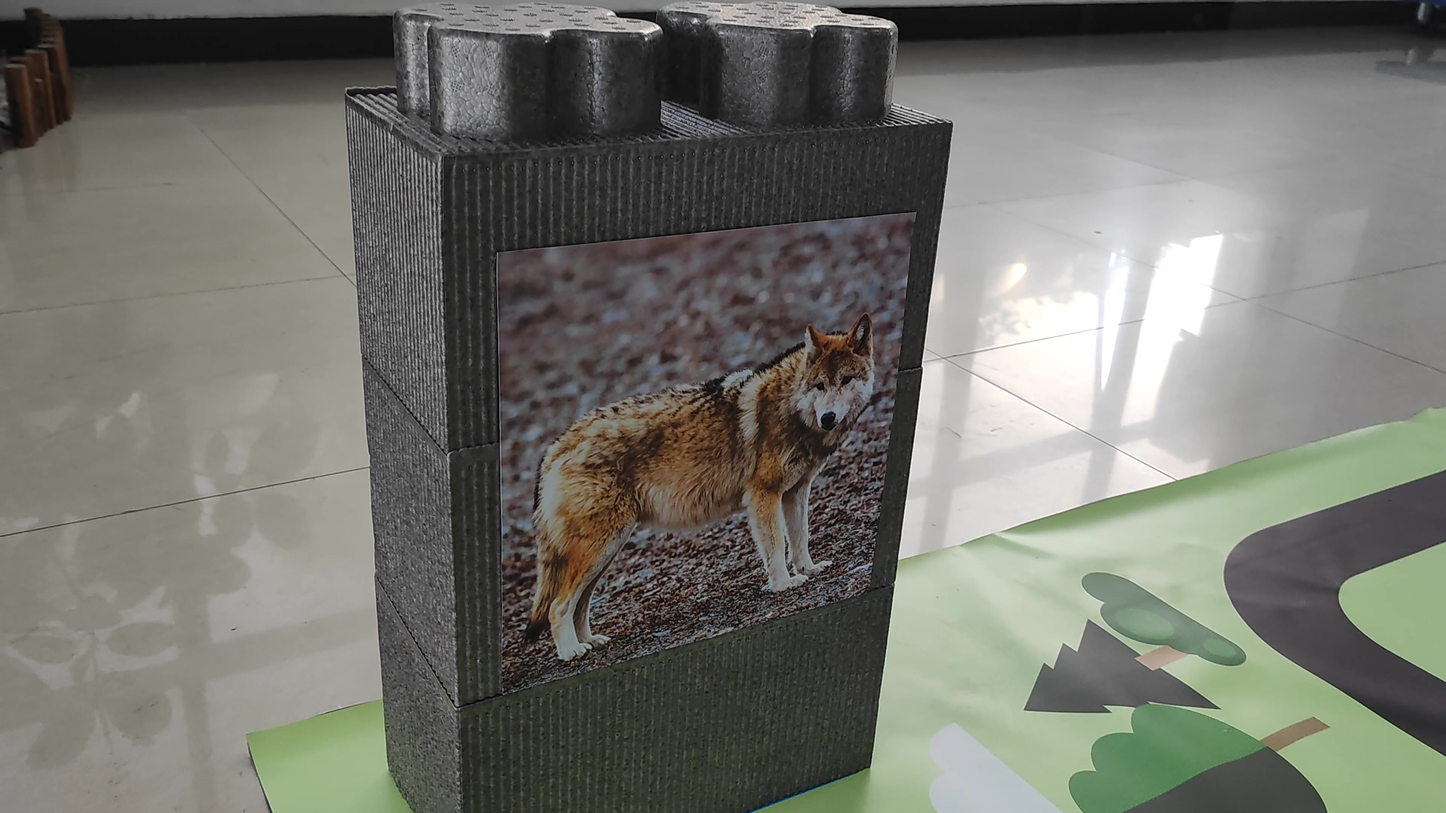wolf: (506, 254, 894, 647)
